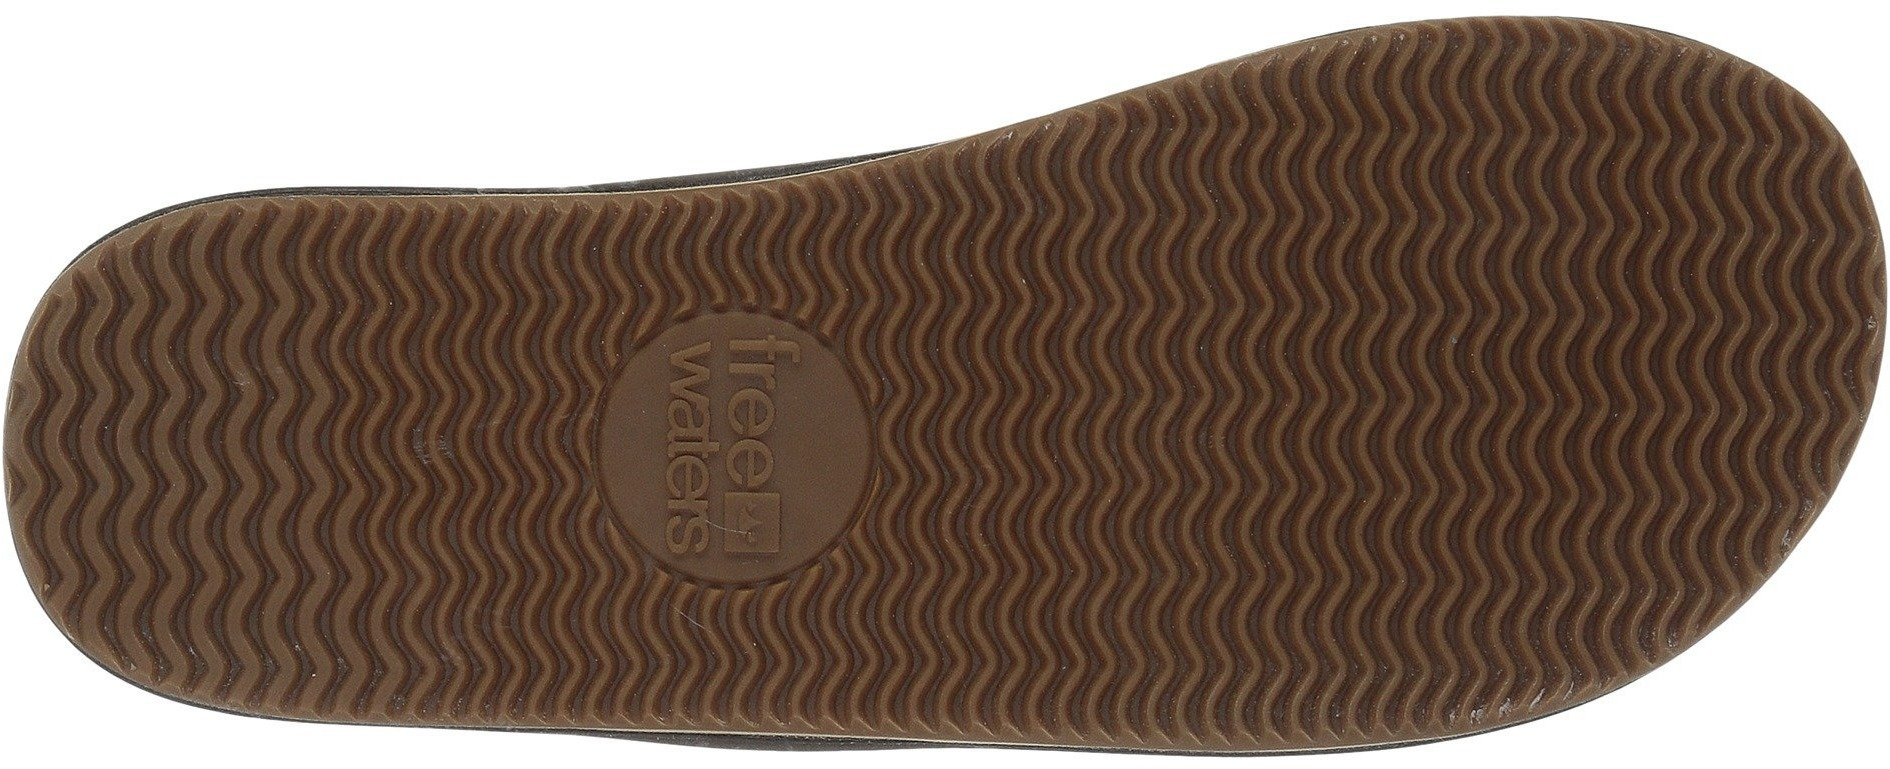chevron: (1361, 59, 1687, 366), (589, 303, 881, 593), (888, 354, 1174, 636), (1185, 381, 1455, 657), (331, 241, 595, 505), (80, 282, 333, 554), (1114, 101, 1362, 344), (1465, 372, 1696, 620), (340, 512, 559, 724), (888, 162, 1103, 350), (1694, 163, 1873, 327), (1704, 335, 1851, 475)
circle: (589, 303, 881, 593)
quad: (589, 303, 881, 593), (715, 486, 793, 573)
text: (589, 303, 881, 593), (661, 446, 794, 575), (677, 330, 803, 440)
